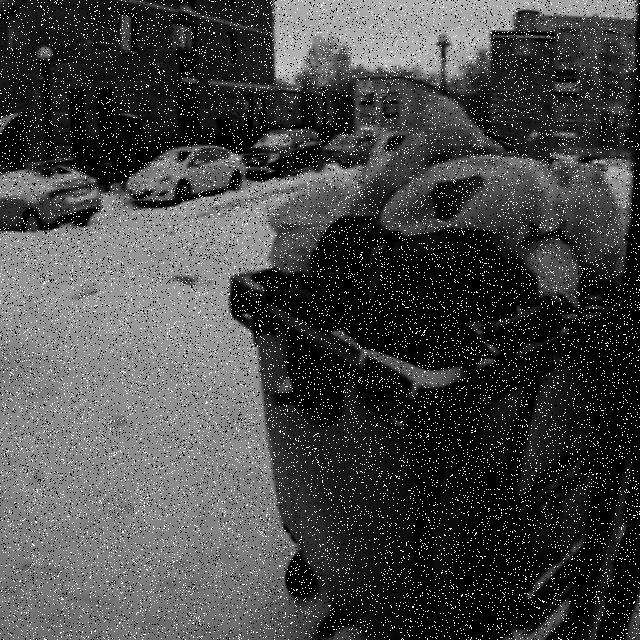Trashcan: (226, 104, 639, 640)
